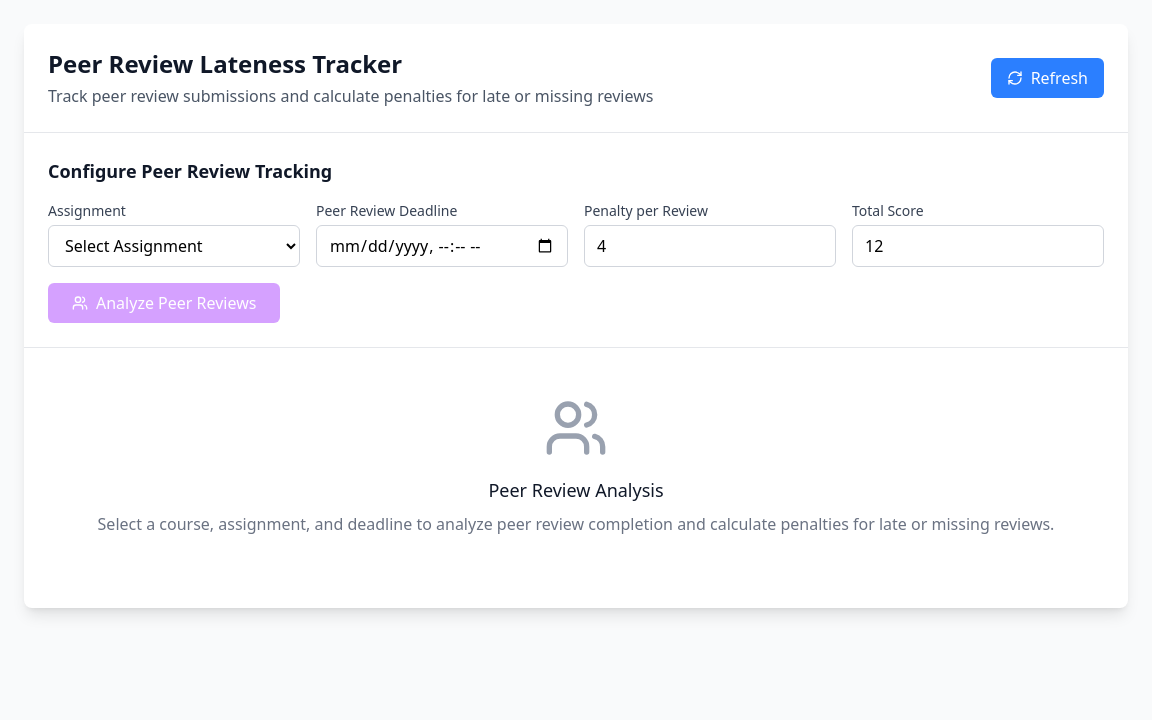
Scenario: PeerReviewTracking › Peer Review Analysis › fetches and displays peer review data successfully
Select "Assignment 1" in the dropdown named "Select assignment" at (174, 246), box [48,225,300,267]
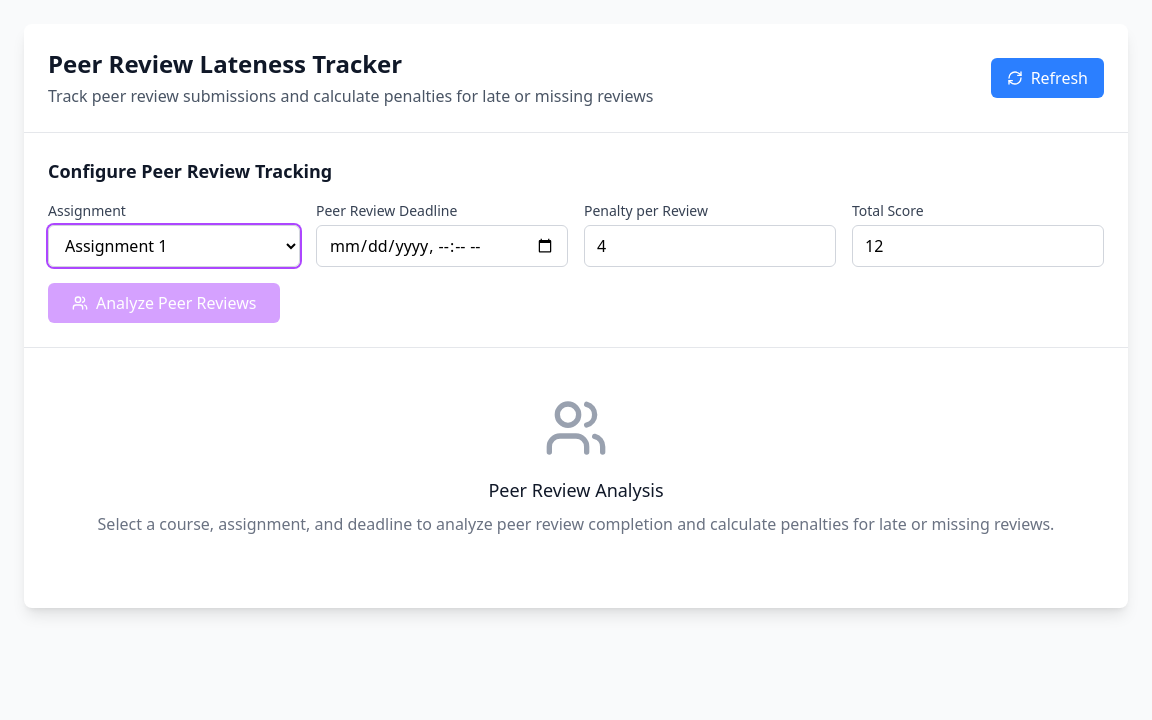
Type "2025-02-01T12:00" into the field named "Select peer review deadline" at (442, 246), box [316,225,568,267]
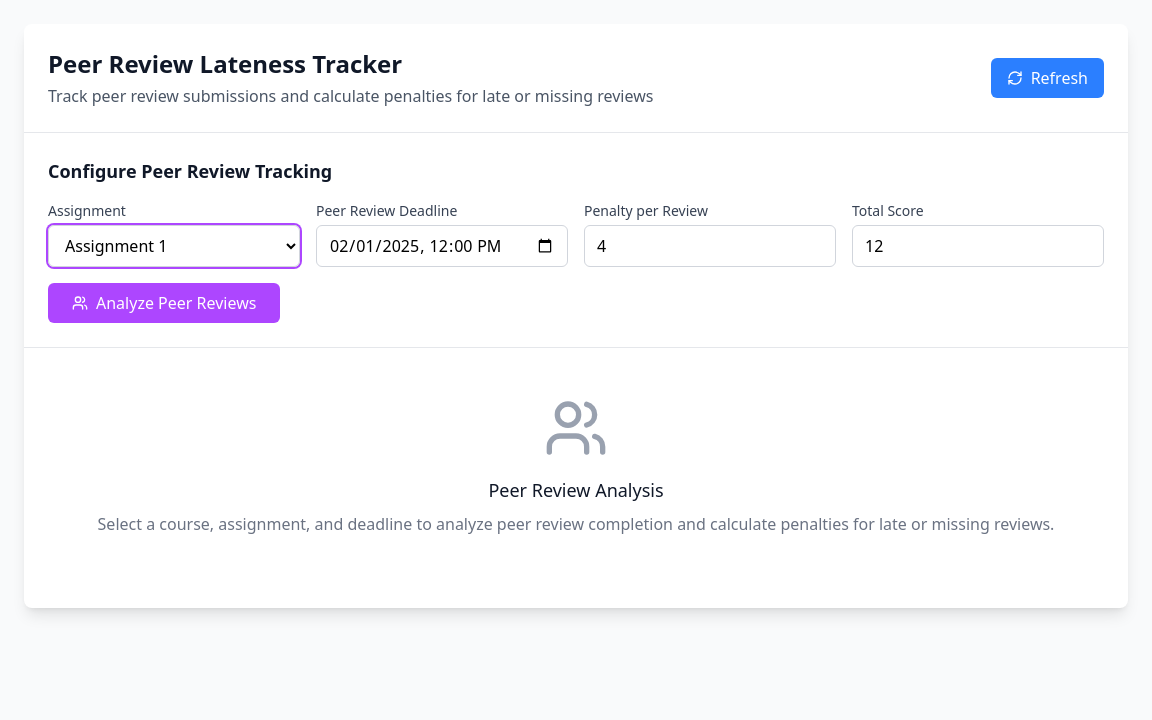
Click the button "Analyze Peer Reviews" at (164, 303), box [48,283,280,323]
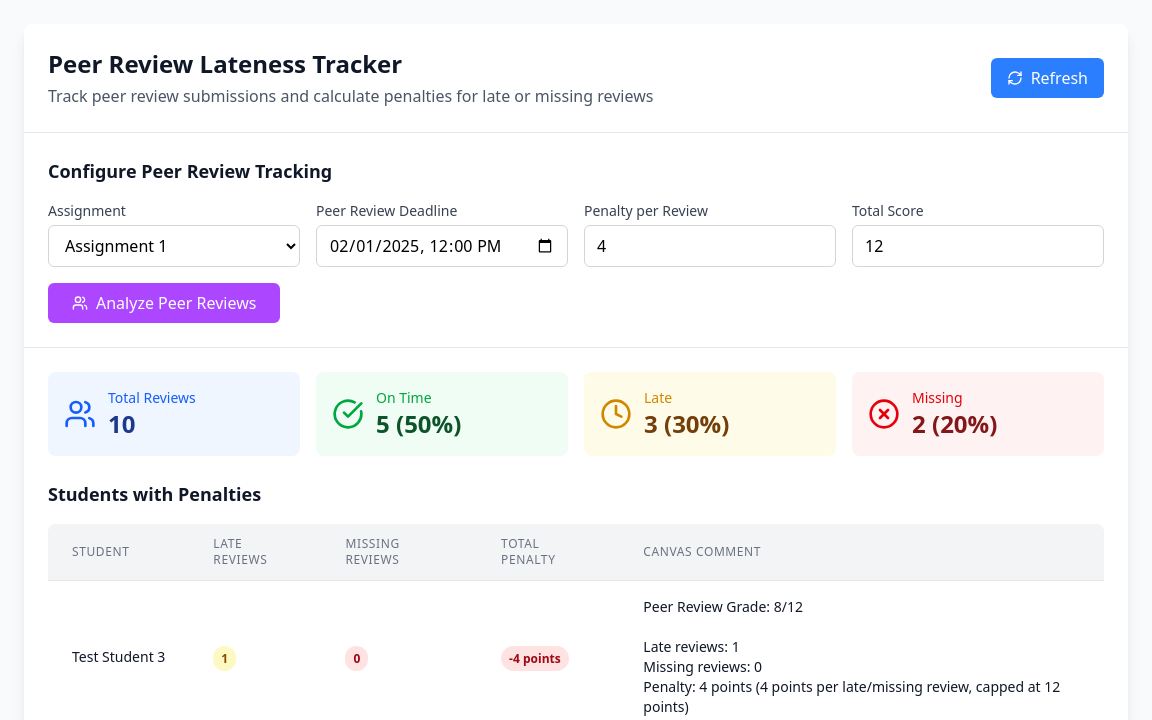
Now the text "Total Reviews" is shown, box [108,388,196,408]
Now the text "10" is shown, box [108,407,136,440]
Now the text "On Time" is shown, box [376,388,432,407]
